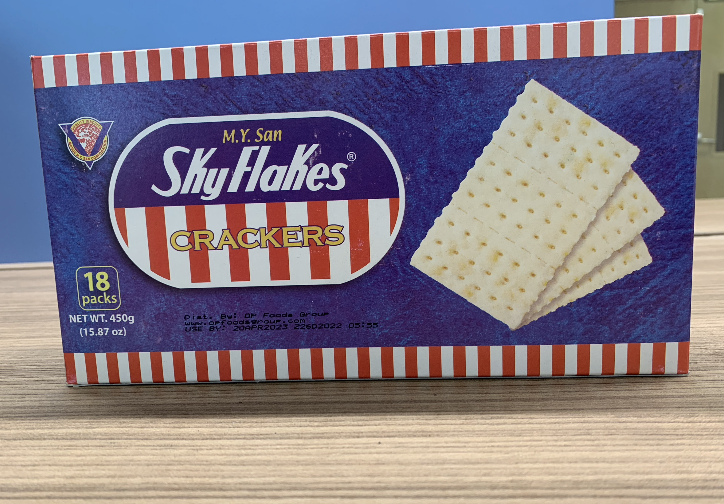crackers_450g: (61, 72, 663, 342)
